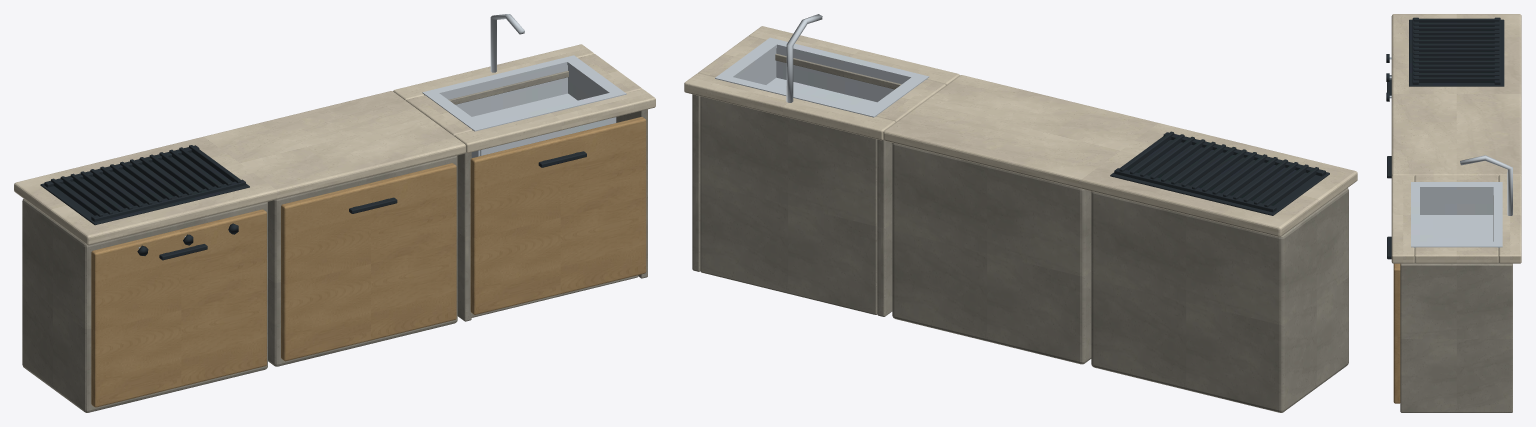
The model's file is kitchen.glb.
The picture shows the model from 3 angles, left to right: view 1: azimuth 30°, elevation 25°; view 2: azimuth 150°, elevation 25°; view 3: azimuth 270°, elevation 25°; orthographic projection. The views are drawn at different scales.
Parts seen in each view (by area): view 1: outdoor-kitchen — STATIC material batch; view 2: outdoor-kitchen — STATIC material batch; view 3: outdoor-kitchen — STATIC material batch.
Boxes of the visible parts, x1,y1,x2,y2 form: outdoor-kitchen — STATIC material batch: [14, 14, 655, 412]; outdoor-kitchen — STATIC material batch: [684, 14, 1357, 412]; outdoor-kitchen — STATIC material batch: [1386, 14, 1521, 412].
Size of the model in its own units: 3 by 1.26 by 0.7086.
Materials: 5 (5 with a texture image).
